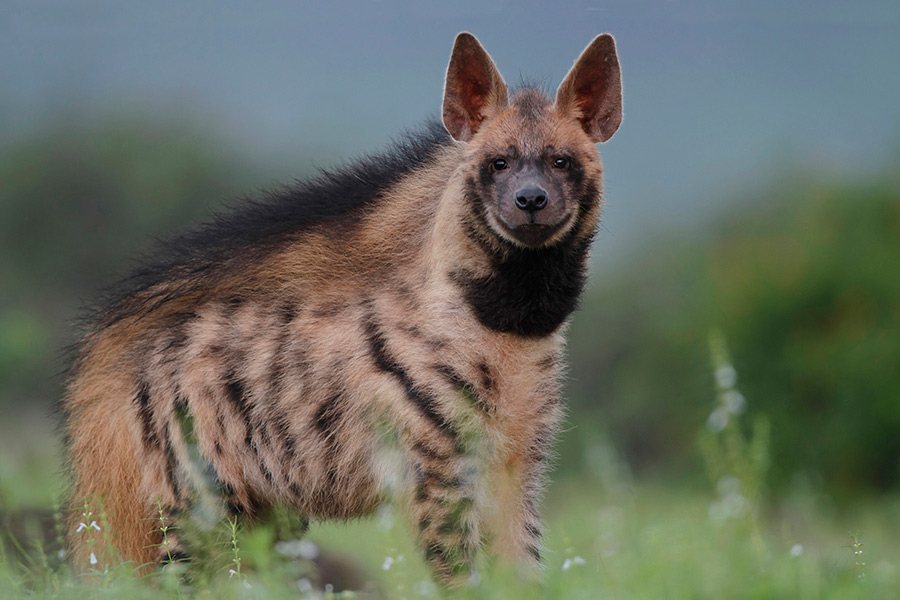hyena: (44, 27, 631, 600)
